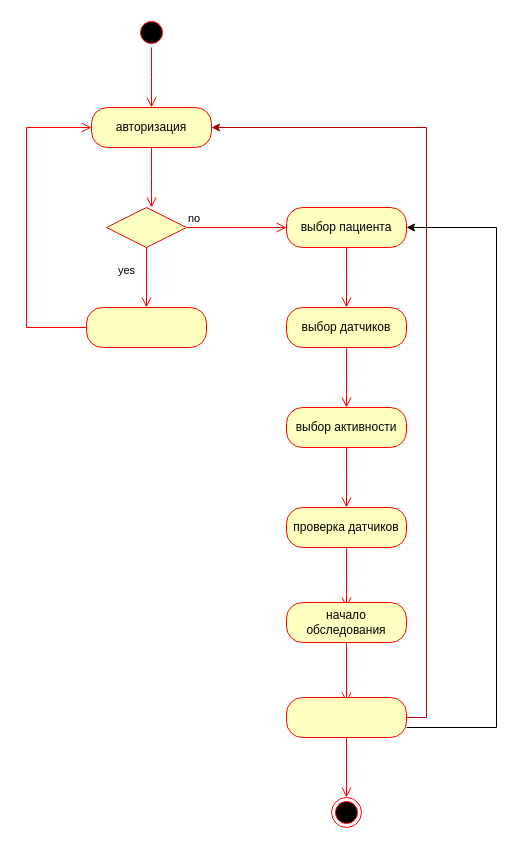
The diagram is 522 pixels wide and 845 high, and some of its shapes have lost their labels. Here are the shapes that lost their labels. From the top down, the centre of each, then its label:
the point at 146,227: админ?
the point at 146,327: просмотр списка пациентов
the point at 346,717: окончание обследования
